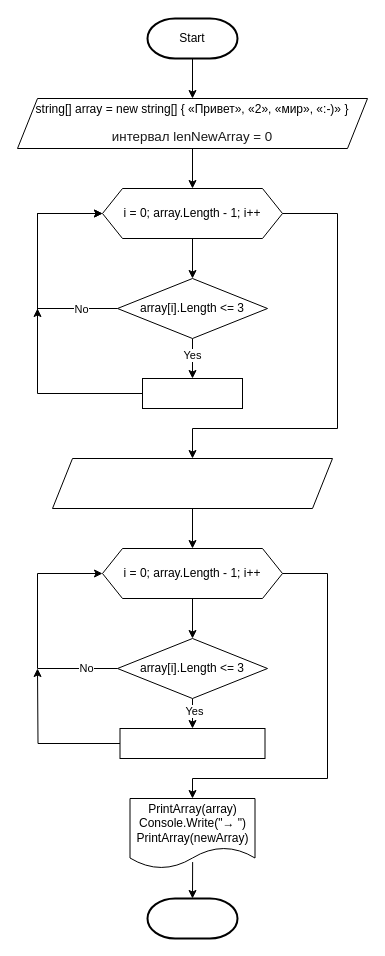
Image size: 385x956. Some labels were removed from this diagram. The box of each missing label's shape, as (x1, y1, x2, y2) in pixels:
End: (146, 897, 238, 939)
lenNewArray++: (142, 378, 242, 408)
newArray[idx] = array[i] idx++: (119, 728, 265, 758)
string[] newArray = new string[lenNewArray] int idx = 0;: (52, 458, 332, 508)
